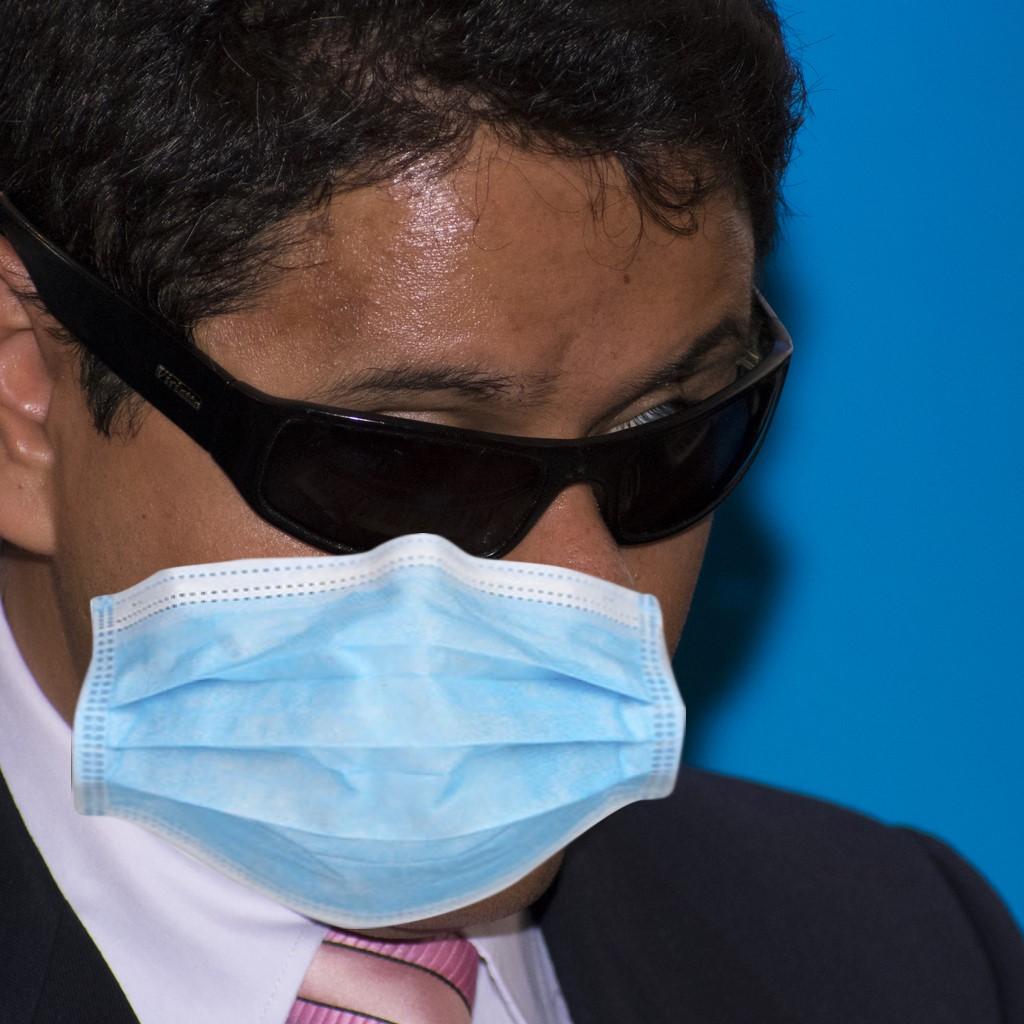con_mascara: (63, 21, 744, 939)
